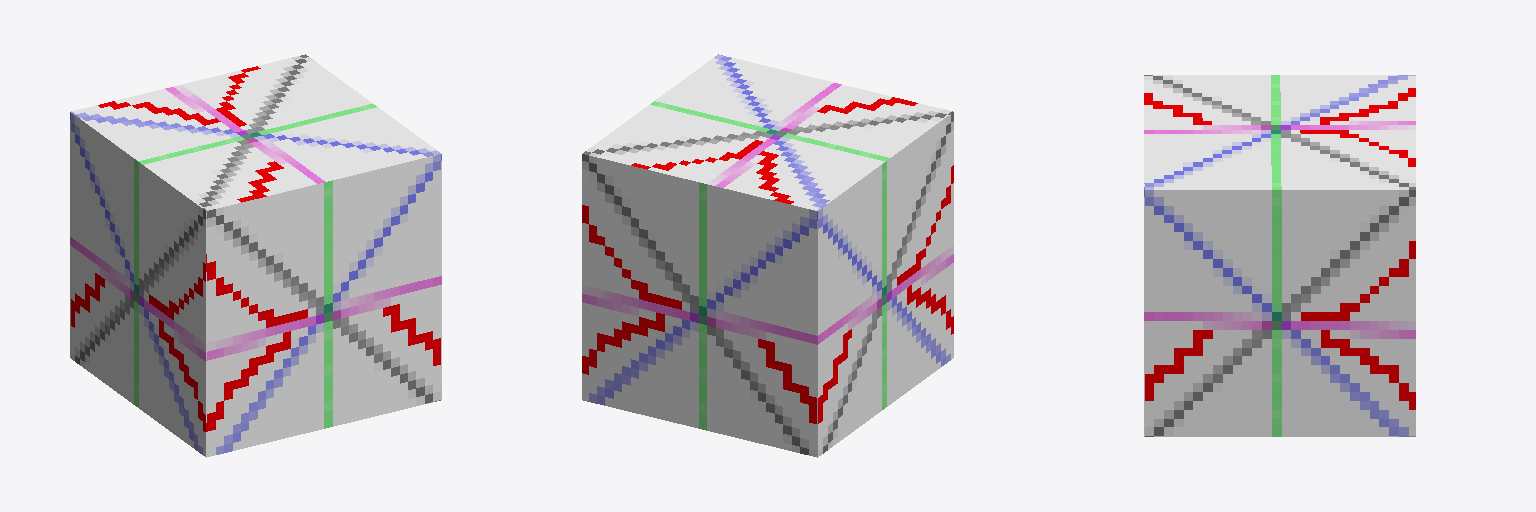
3 renders of one model, left to right at view 1: azimuth 30°, elevation 25°; view 2: azimuth 150°, elevation 25°; view 3: azimuth 270°, elevation 25°, orthographic.
Visible parts, largest first — view 1: Cube; view 2: Cube; view 3: Cube.
Boxes of the visible parts, <box> form: Cube: <box>70,54,441,457</box>; Cube: <box>582,54,953,457</box>; Cube: <box>1144,75,1415,436</box>.
Bounding box in the file's own units: 2 × 2 × 2.
Materials: 1 (1 with a texture image).